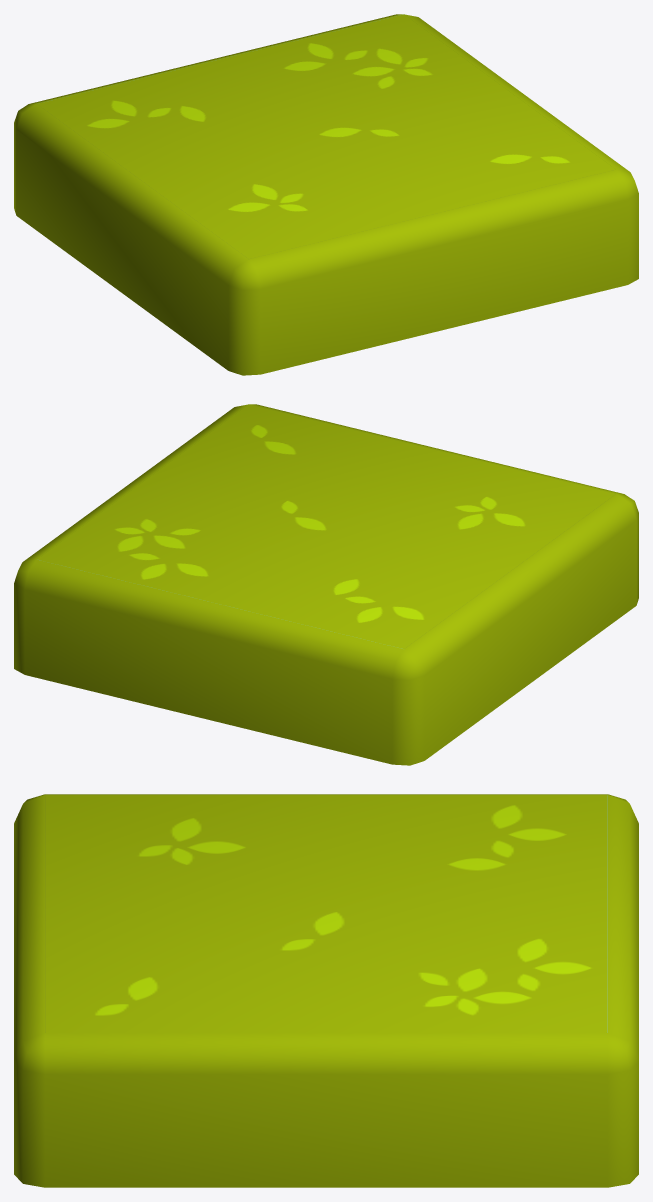
Rendered from 3D_Tile_Top_01v04.fbx.
The picture shows the model from 3 angles, top to bottom: view 1: azimuth 30°, elevation 25°; view 2: azimuth 150°, elevation 25°; view 3: azimuth 270°, elevation 25°; orthographic projection. The views are drawn at different scales.
Visible parts, largest first — view 1: 3D_Tile_Top_01v04; view 2: 3D_Tile_Top_01v04; view 3: 3D_Tile_Top_01v04.
Boxes of the visible parts, x1,y1,x2,y2 form: 3D_Tile_Top_01v04: [14, 14, 638, 375]; 3D_Tile_Top_01v04: [14, 404, 638, 765]; 3D_Tile_Top_01v04: [14, 794, 638, 1187].
Bounding box in the file's own units: 200 × 50 × 200.
